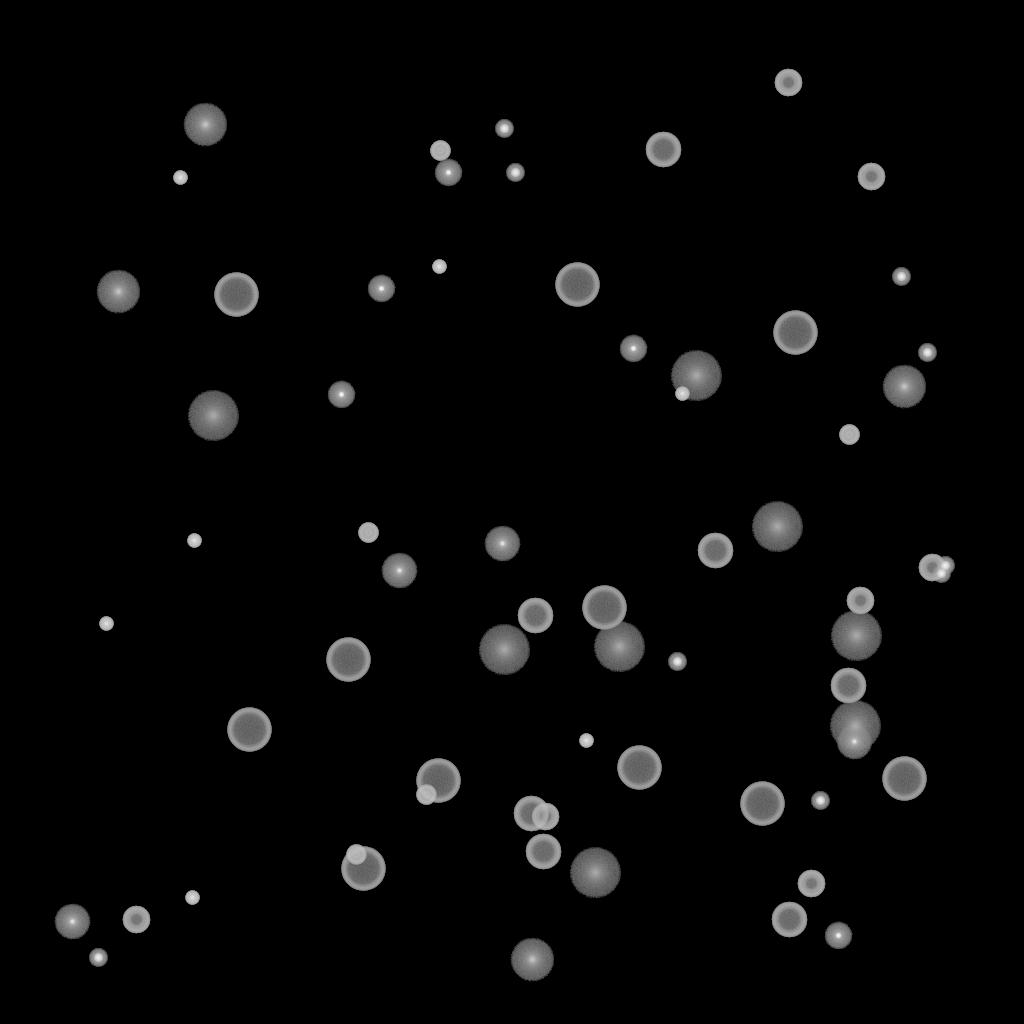depth:-10: (619, 335, 647, 363), (434, 159, 462, 187), (327, 381, 355, 409), (367, 275, 395, 303), (824, 922, 852, 950)
depth:-20: (495, 120, 513, 138), (932, 565, 950, 583), (936, 557, 954, 575), (811, 792, 829, 810), (668, 653, 686, 671), (506, 164, 524, 182), (918, 344, 936, 362), (892, 268, 910, 286), (89, 949, 107, 967)
depth:-30: (579, 734, 593, 748), (675, 387, 689, 401), (185, 891, 199, 905), (173, 171, 187, 185), (432, 260, 446, 274), (99, 617, 113, 631), (187, 534, 201, 548)
depth:-40: (416, 785, 436, 805), (358, 523, 378, 543), (346, 845, 366, 865), (839, 425, 859, 445), (430, 141, 450, 161)
depth:-50: (122, 906, 150, 934), (797, 870, 825, 898), (857, 163, 885, 191), (774, 69, 802, 97), (846, 587, 874, 615), (918, 554, 946, 582), (531, 803, 559, 831)
depth:-60: (513, 796, 549, 832), (517, 598, 553, 634), (525, 834, 561, 870), (645, 132, 681, 168), (771, 902, 807, 938), (830, 668, 866, 704), (697, 533, 733, 569)
depth:-70: (341, 847, 385, 891), (416, 759, 460, 803), (740, 782, 784, 826), (882, 757, 926, 801), (773, 311, 817, 355), (617, 746, 661, 790), (326, 638, 370, 682), (555, 263, 599, 307), (214, 273, 258, 317), (227, 708, 271, 752), (582, 586, 626, 630)
depth:0: (381, 553, 417, 589), (54, 904, 90, 940), (484, 526, 520, 562), (836, 724, 872, 760)
depth:10: (183, 103, 227, 147), (96, 270, 140, 314), (882, 365, 926, 409), (510, 938, 554, 982)
depth:20: (569, 848, 621, 898), (670, 351, 722, 401), (830, 611, 882, 661), (829, 701, 881, 751), (187, 391, 239, 441), (478, 625, 530, 675), (751, 502, 803, 552), (593, 622, 645, 672)
